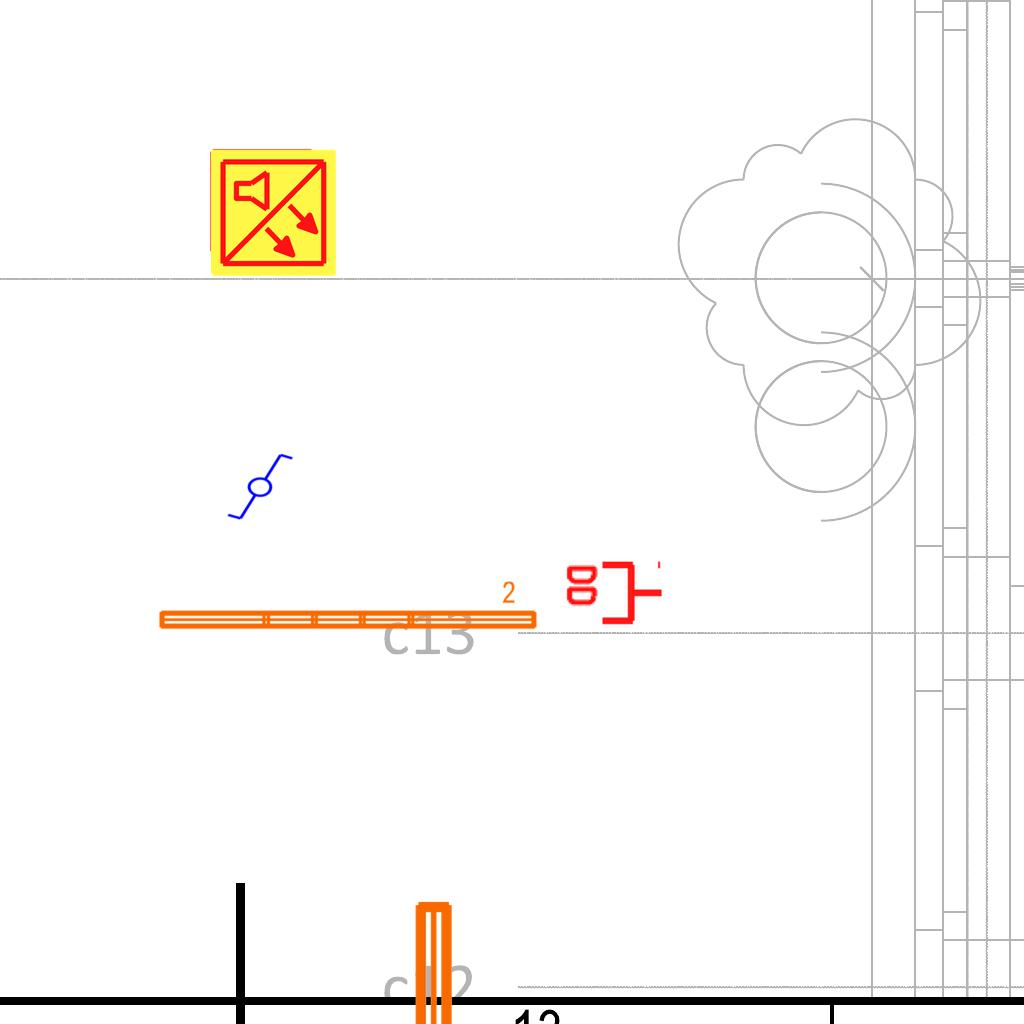Ambulanz_Pendelleuchte_LED: (154, 579, 541, 635), (403, 891, 515, 1024)
Datenanschluss_zweifach: (562, 560, 665, 629)
OKW_Multisensormelder_(Kombination_optischer_Rauch-Kahlenmonoxid_Waerme-Melder): (207, 147, 339, 279)
Wechselschalter: (217, 450, 295, 522)
